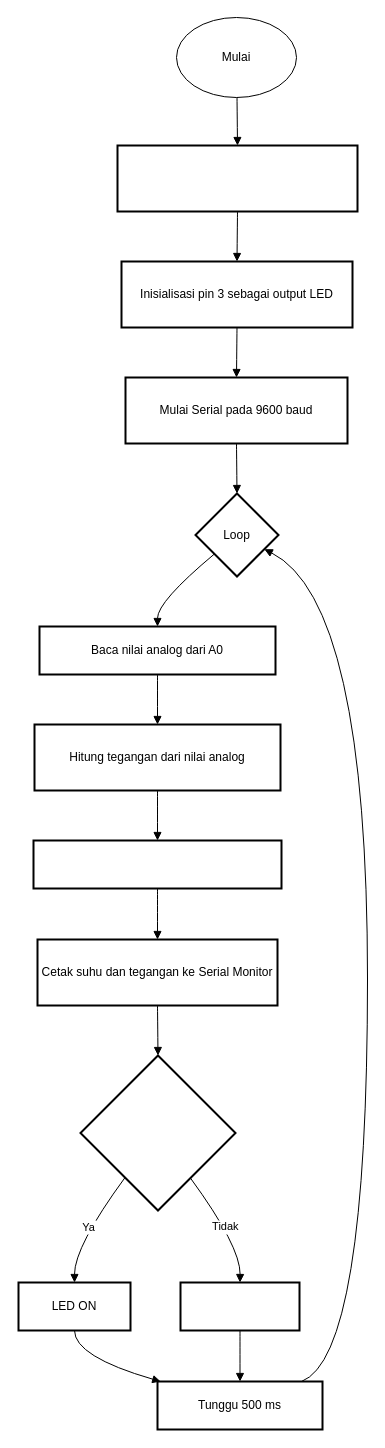
Some shapes in this 385 by 1448 pixel diagram are drawn without their labels. The centre of each missing label's shape, as x and y in pixels:
"Hitung suhu dari tegangan" belongs at (157,864).
"Inisialisasi pin A0 sebagai input suhu" belongs at (237,178).
"LED OFF" belongs at (239,1306).
"Suhu >= 27?" belongs at (157,1132).
